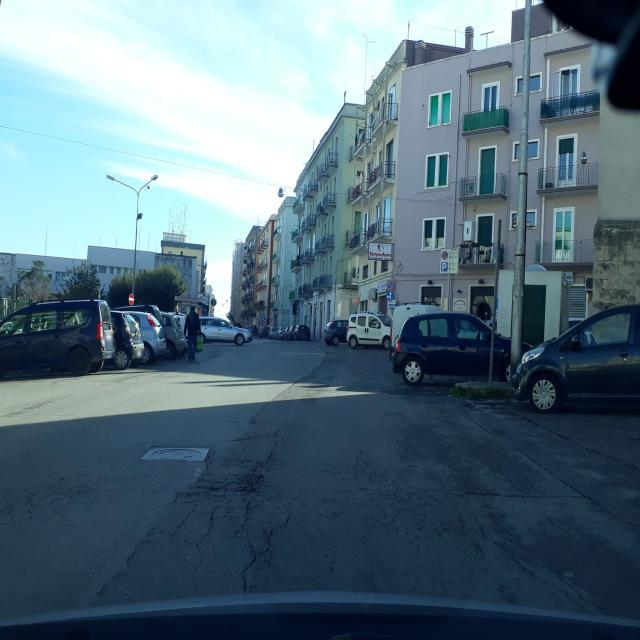forb_stopping: (386, 280, 393, 290)
